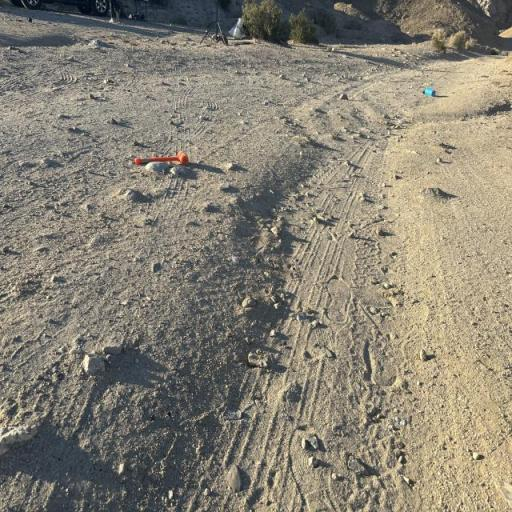bottle: (421, 84, 437, 98)
mallet: (132, 146, 190, 172)
